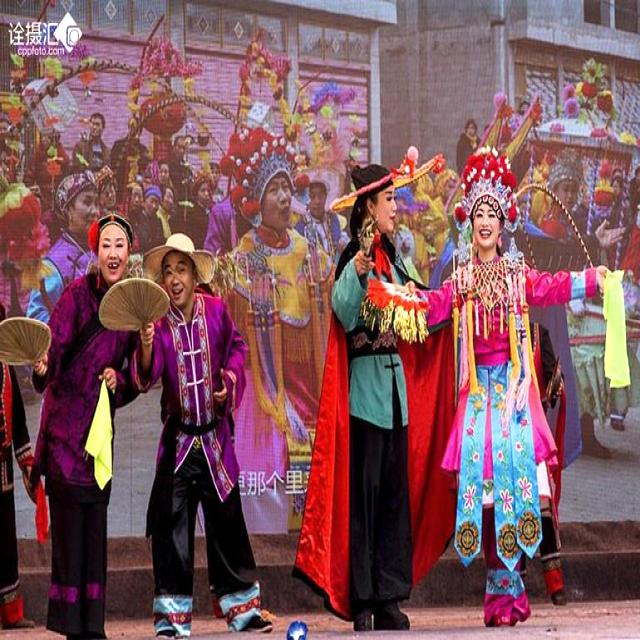Reeves-s Pheasant: (514, 174, 598, 269)
